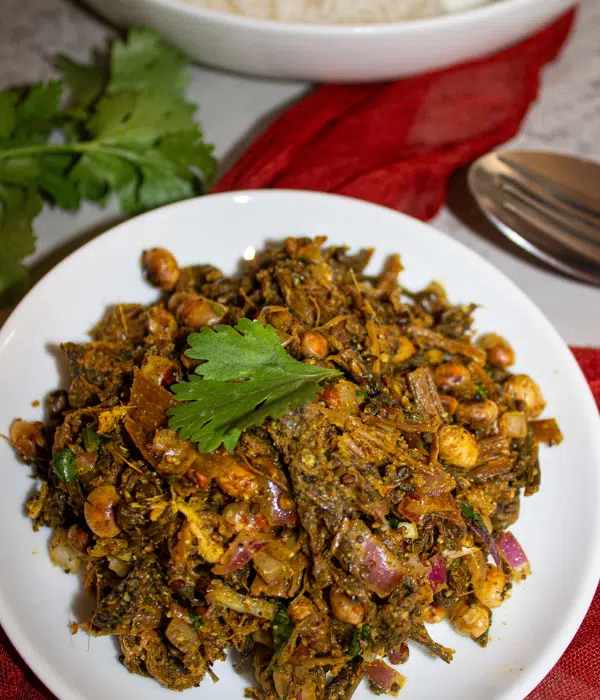gundruk: (62, 248, 523, 685)
